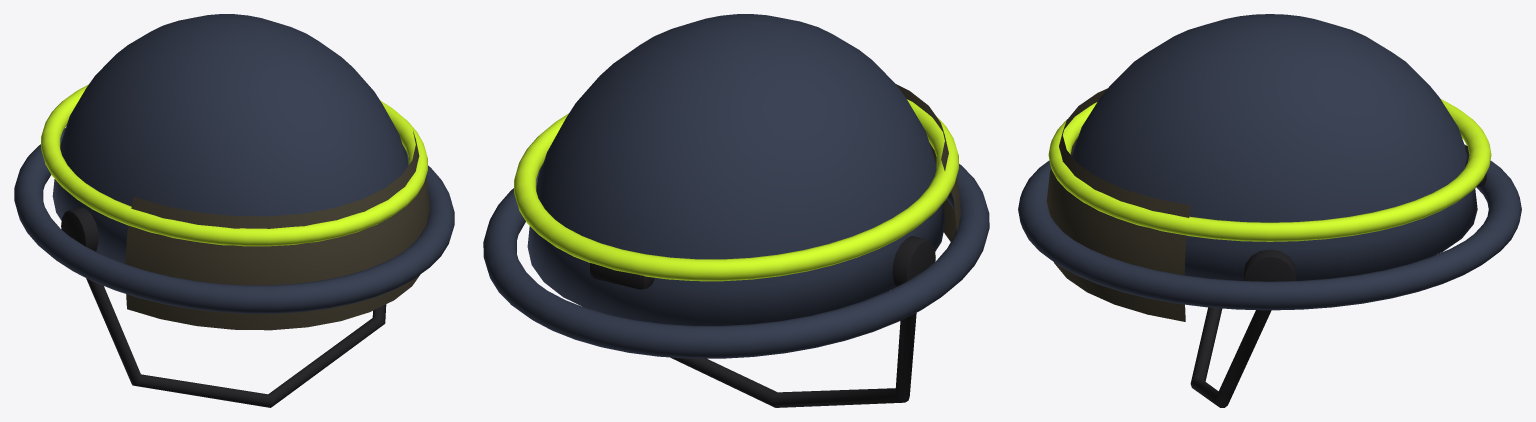
File: casco-vvf.glb
3 views of the same model, side by side, from view 1: azimuth 30°, elevation 25°; view 2: azimuth 150°, elevation 25°; view 3: azimuth 270°, elevation 25° (orthographic). The views are drawn at different scales.
Parts seen in each view (by area): view 1: casco-vvf; view 2: casco-vvf; view 3: casco-vvf.
Part boxes in pixels (<box>): casco-vvf: <box>14,14,454,407</box>; casco-vvf: <box>483,14,989,407</box>; casco-vvf: <box>1018,14,1521,407</box>.
Bounding box in the file's own units: 0.364 × 0.3307 × 0.4186.
